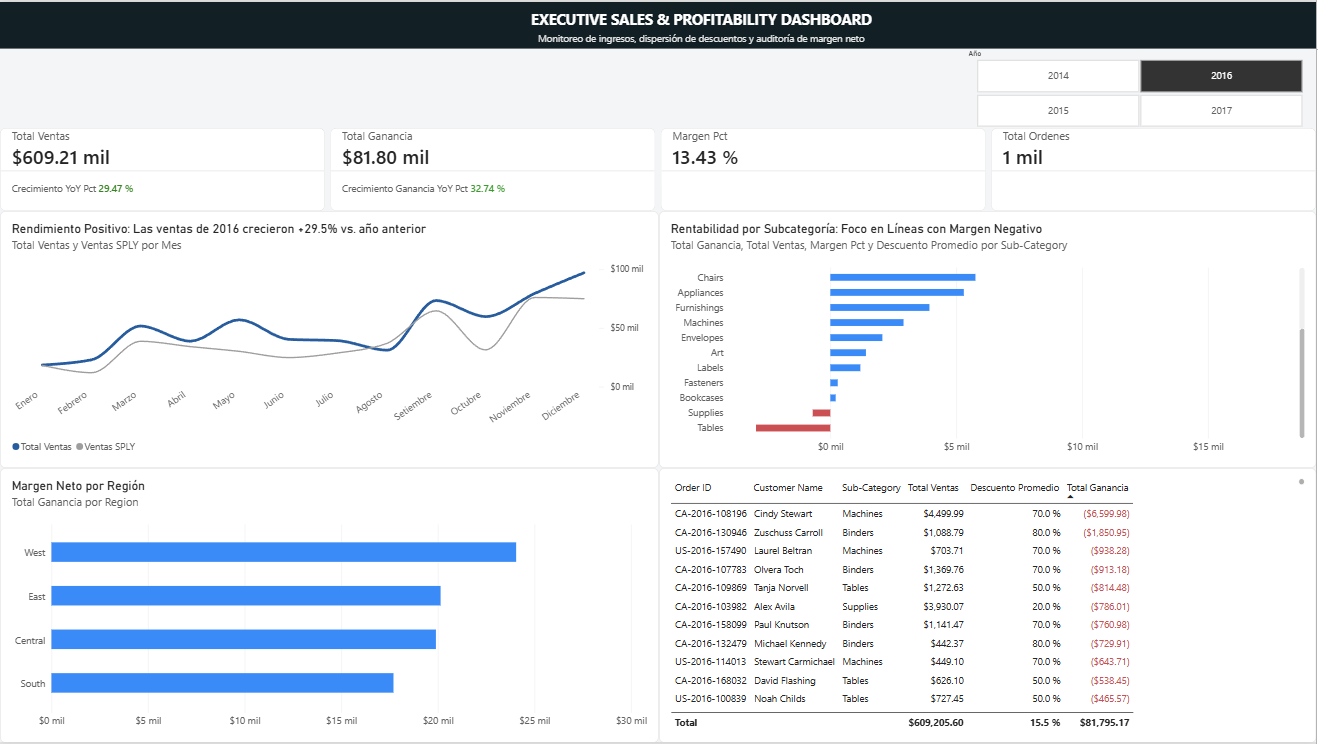

The page's visual inventory and layout, read from the dashboard file:
{"tool":"powerbi","page":{"name":"Página 1","canvas":[1920,1080],"ordinal":0},"visuals":[{"type":"cardVisual","fields":{"Data":["_Medidas.Total Ventas","_Medidas.Total Ganancia","_Medidas.Margen Pct","_Medidas.Total Ordenes"]},"box":[0,183.3,1920,121.2],"z":1000},{"type":"slicer","fields":{"Values":["Dim_Calendario.Año"]},"box":[1405.6,68,514.4,115.3],"z":2000},{"type":"lineChart","fields":{"Category":["Dim_Calendario.Mes"],"Y2":["_Medidas.Total Ventas","_Medidas.Ventas SPLY"]},"box":[0,304.5,960.7,375.4],"z":3000},{"type":"clusteredBarChart","title":"Rentabilidad por Subcategoría: Foco en Líneas con Margen Negativo","fields":{"Category":["Dim_Producto.Sub-Category"],"Y":["_Medidas.Total Ganancia"]},"box":[960.7,304.5,959.3,375.4],"z":4000},{"type":"clusteredBarChart","title":"Margen Neto por Región","fields":{"Category":["Dim_Geografia.Region"],"Y":["_Medidas.Total Ganancia"]},"box":[0,679.9,960.7,400.6],"z":4001},{"type":"tableEx","fields":{"Values":["Fact_Ventas.Order ID","Dim_Cliente.Customer Name","Dim_Producto.Sub-Category","_Medidas.Total Ventas","_Medidas.Descuento Promedio","_Medidas.Total Ganancia"]},"box":[960.7,679.9,959.3,400.6],"z":4002},{"type":"shape","box":[0,0,1920,68],"z":4003},{"type":"textbox","box":[774.5,10.3,904.6,57.6],"z":4004},{"type":"textbox","box":[784.8,44.3,685.8,23.6],"z":4005}]}

Visuals, with their boxes in screenshot pixels (x1, y1, x2, y2), scaled from the page's 1920x1080 canvas onto the 1318x744 screenshot:
cardVisual - _Medidas.Total Ventas x _Medidas.Total Ganancia: <bbox>0, 126, 1317, 210</bbox>
slicer - Dim_Calendario.Año: <bbox>965, 47, 1317, 126</bbox>
lineChart - Dim_Calendario.Mes x _Medidas.Total Ventas: <bbox>0, 210, 659, 468</bbox>
"Rentabilidad por Subcategoría: Foco en Líneas con Margen Negativo" clusteredBarChart: <bbox>659, 210, 1317, 468</bbox>
"Margen Neto por Región" clusteredBarChart: <bbox>0, 468, 659, 743</bbox>
tableEx - Fact_Ventas.Order ID x Dim_Cliente.Customer Name: <bbox>659, 468, 1317, 743</bbox>
shape: <bbox>0, 0, 1317, 47</bbox>
textbox: <bbox>532, 7, 1153, 47</bbox>
textbox: <bbox>539, 31, 1010, 47</bbox>
